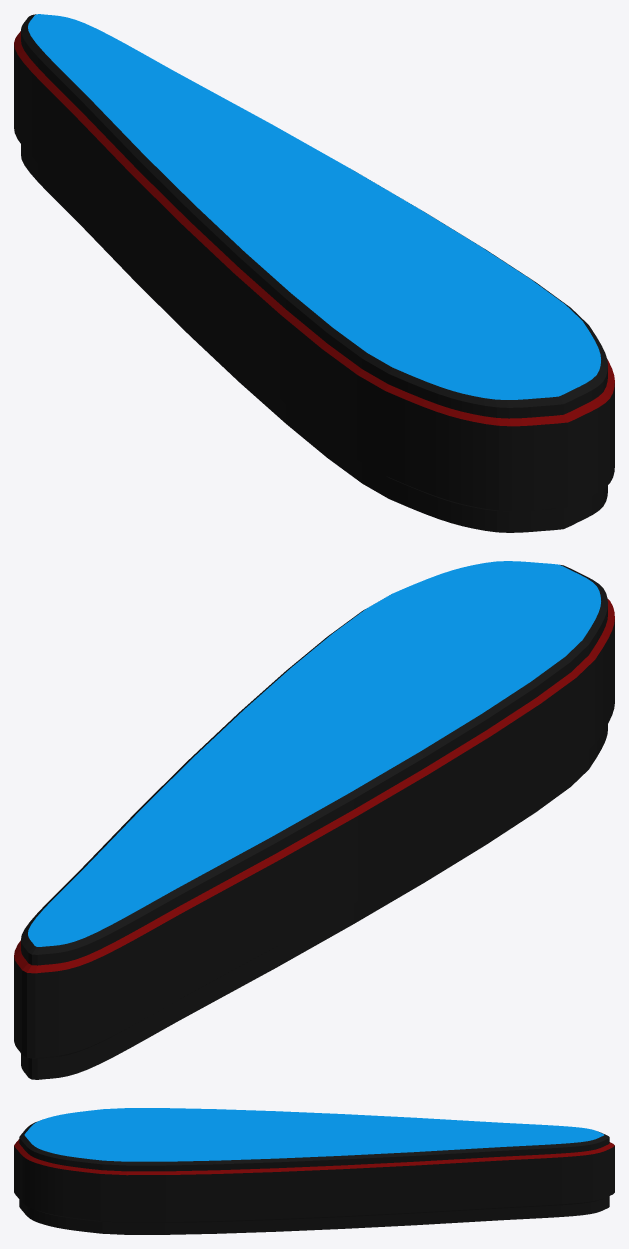
Rendered from Flipper.FBX.
3 renders of one model, top to bottom at view 1: azimuth 30°, elevation 25°; view 2: azimuth 150°, elevation 25°; view 3: azimuth 270°, elevation 25°, orthographic. The views are drawn at different scales.
Parts seen in each view (by area): view 1: Line001; view 2: Line001; view 3: Line001.
Boxes of the visible parts, x1,y1,x2,y2 form: Line001: (14, 14, 614, 532); Line001: (14, 561, 614, 1079); Line001: (14, 1108, 614, 1234).
Bounding box in the file's own units: 10.81 × 6.1 × 46.29.
